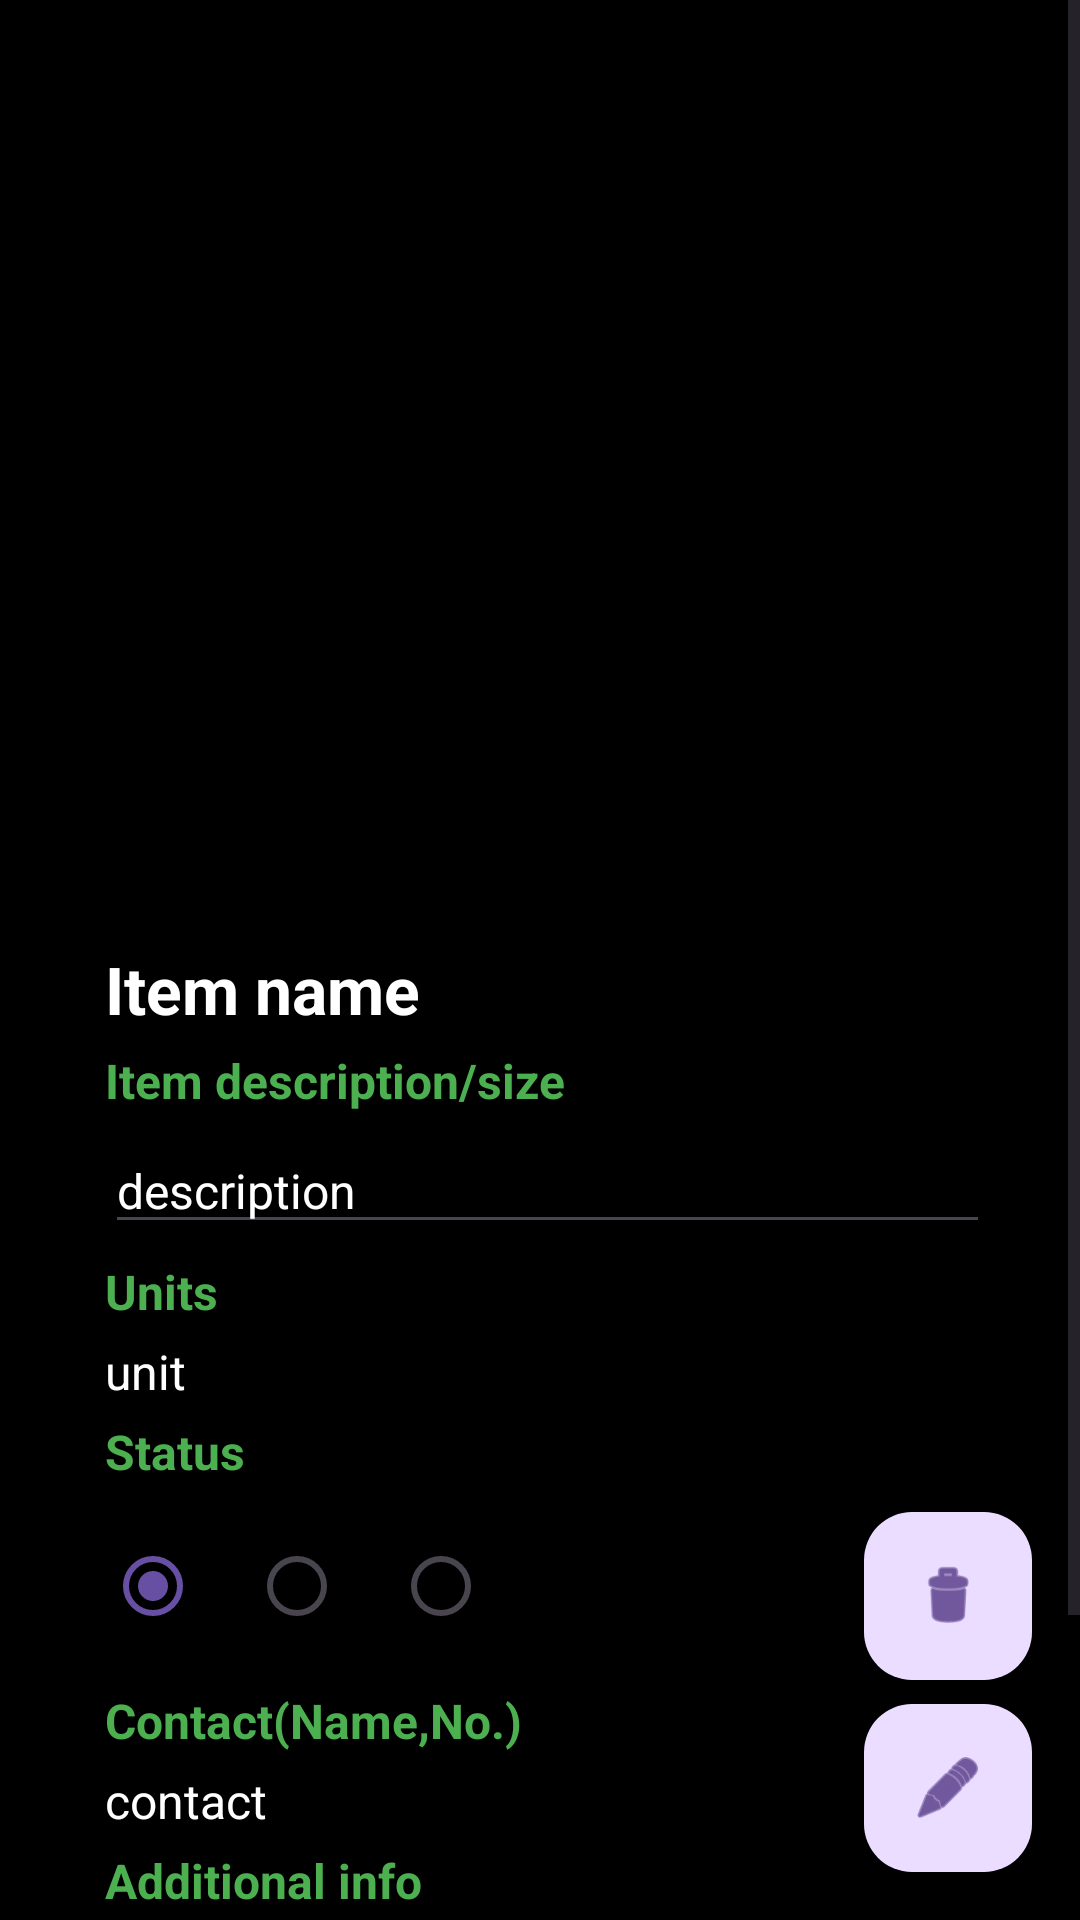

Named icons in this screenshot (1080×1920) and their bounding boxes, (x1, y1, x2, y2):
delete: (864, 1512, 1032, 1680)
edit: (864, 1704, 1032, 1872)
